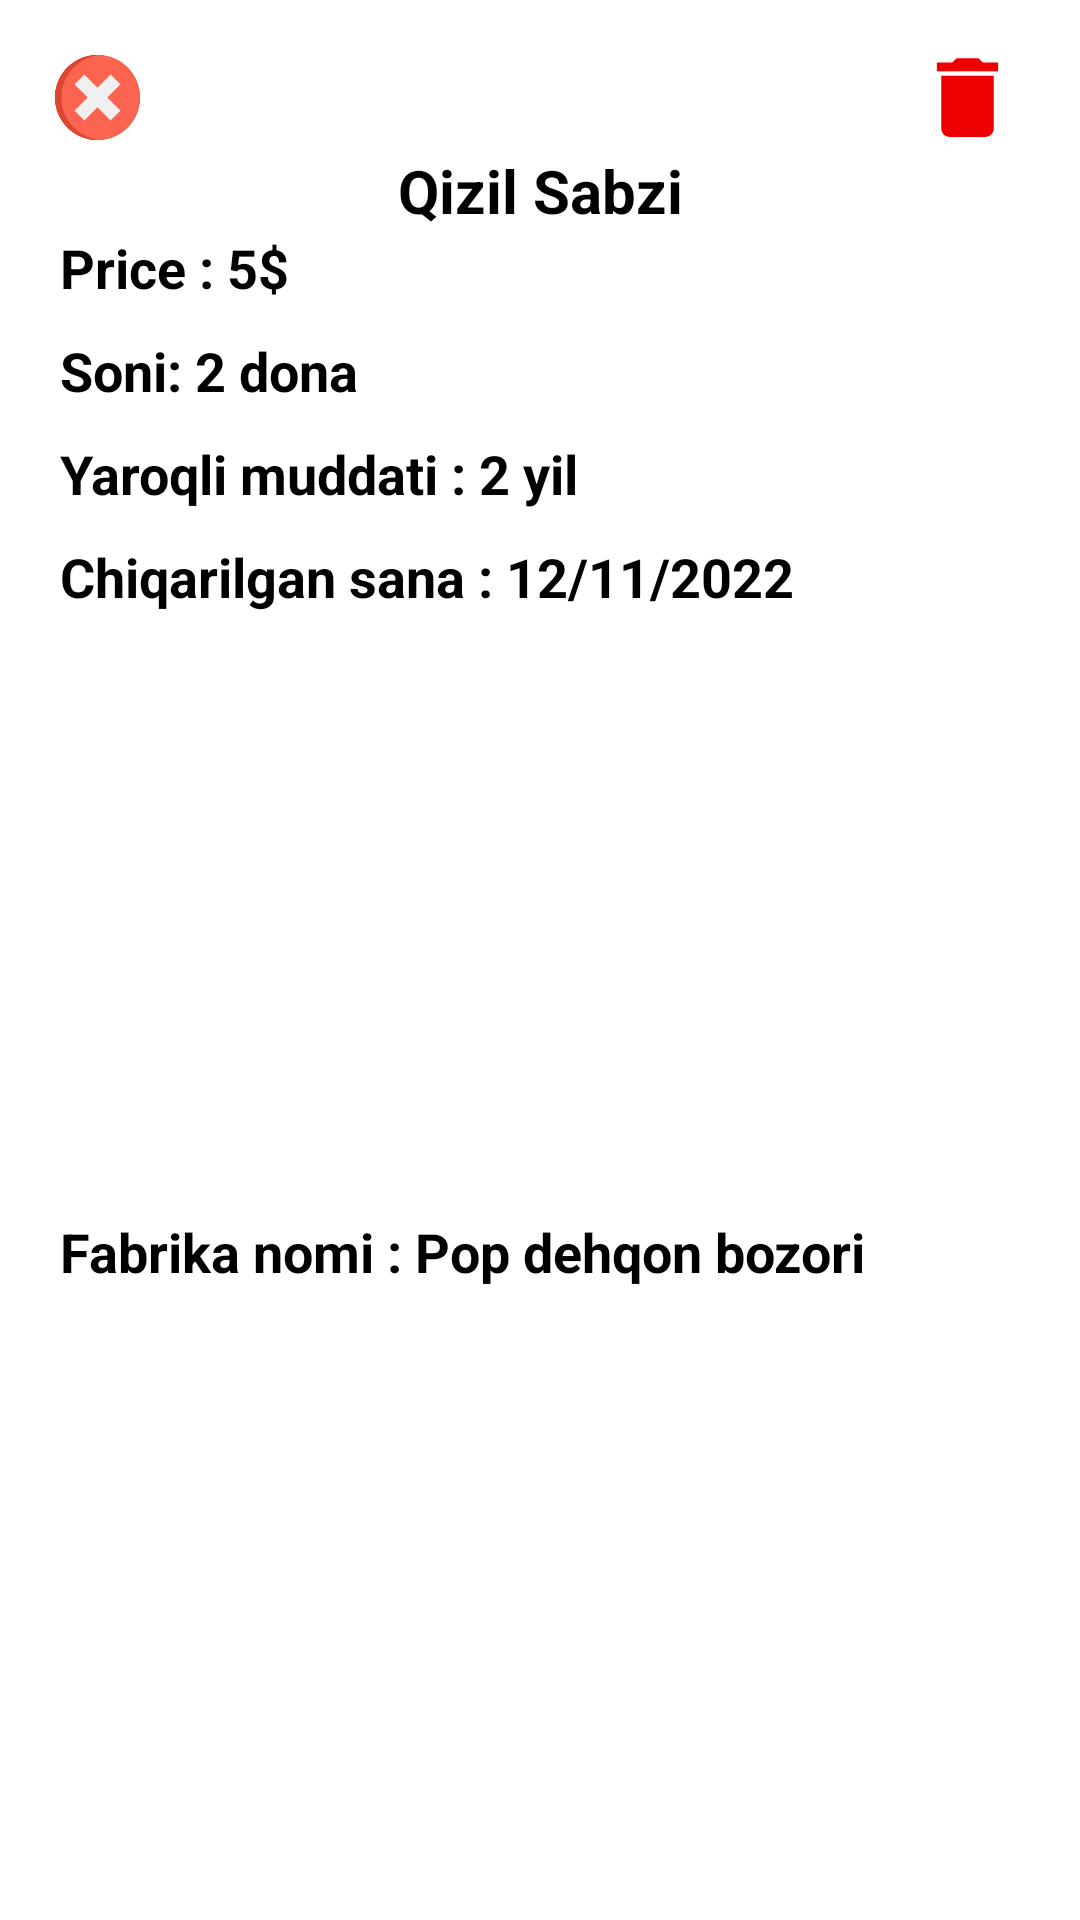

Named icons in this screenshot (1080*1920) and their centers, (x=x, y=y):
close: (x=97, y=97)
delete: (x=967, y=97)
